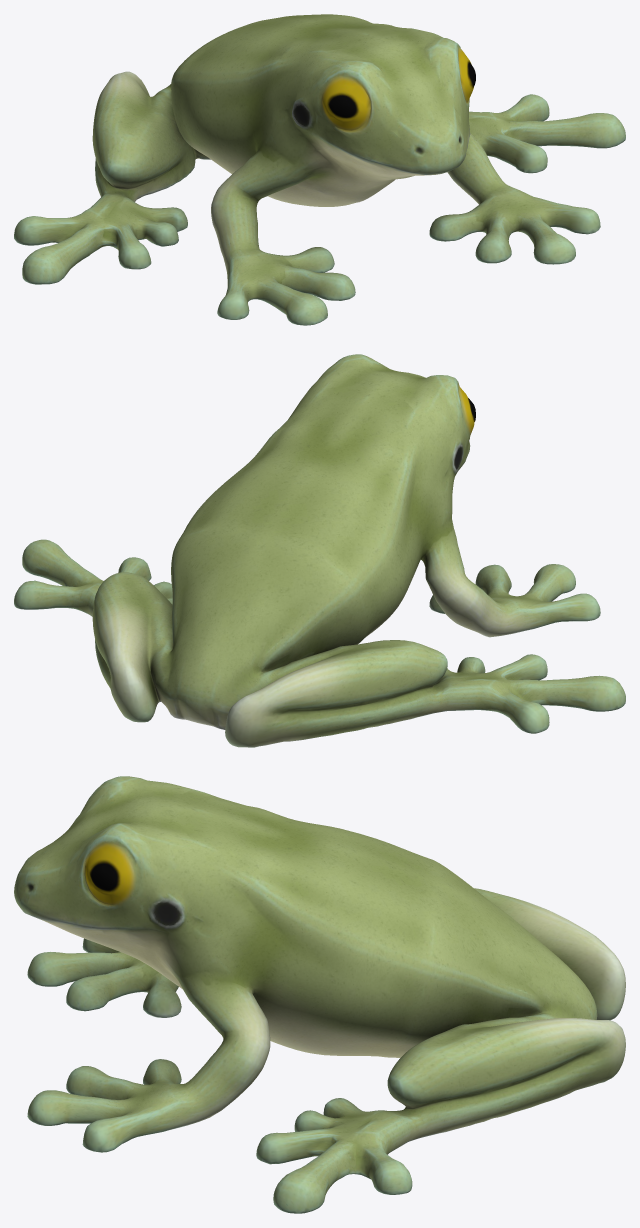
The model's file is MZ4250 - Frog.glb.
3 renders of one model, top to bottom at view 1: azimuth 30°, elevation 25°; view 2: azimuth 150°, elevation 25°; view 3: azimuth 270°, elevation 25°, orthographic. The views are drawn at different scales.
Visible parts, largest first — view 1: Frog t.001; view 2: Frog t.001; view 3: Frog t.001.
Part boxes in pixels (bbox=[...]): Frog t.001: bbox=[14, 14, 625, 325]; Frog t.001: bbox=[14, 354, 625, 747]; Frog t.001: bbox=[14, 776, 625, 1213].
Bounding box in the file's own units: 16.13 × 5.46 × 12.44.
1 material, 1 textured.
